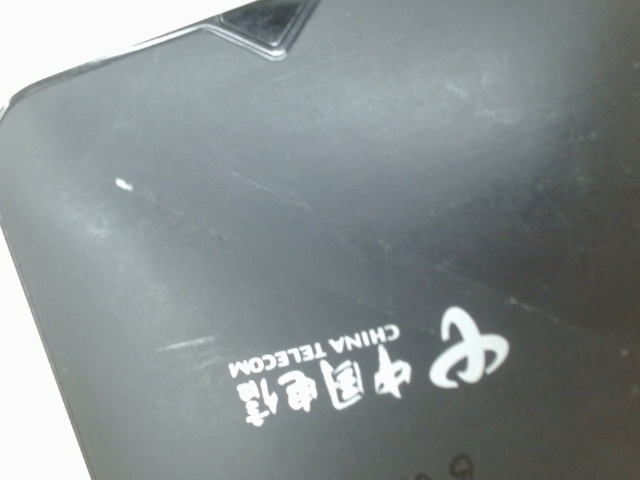AB_ChinaTelecom: (199, 285, 523, 438)
